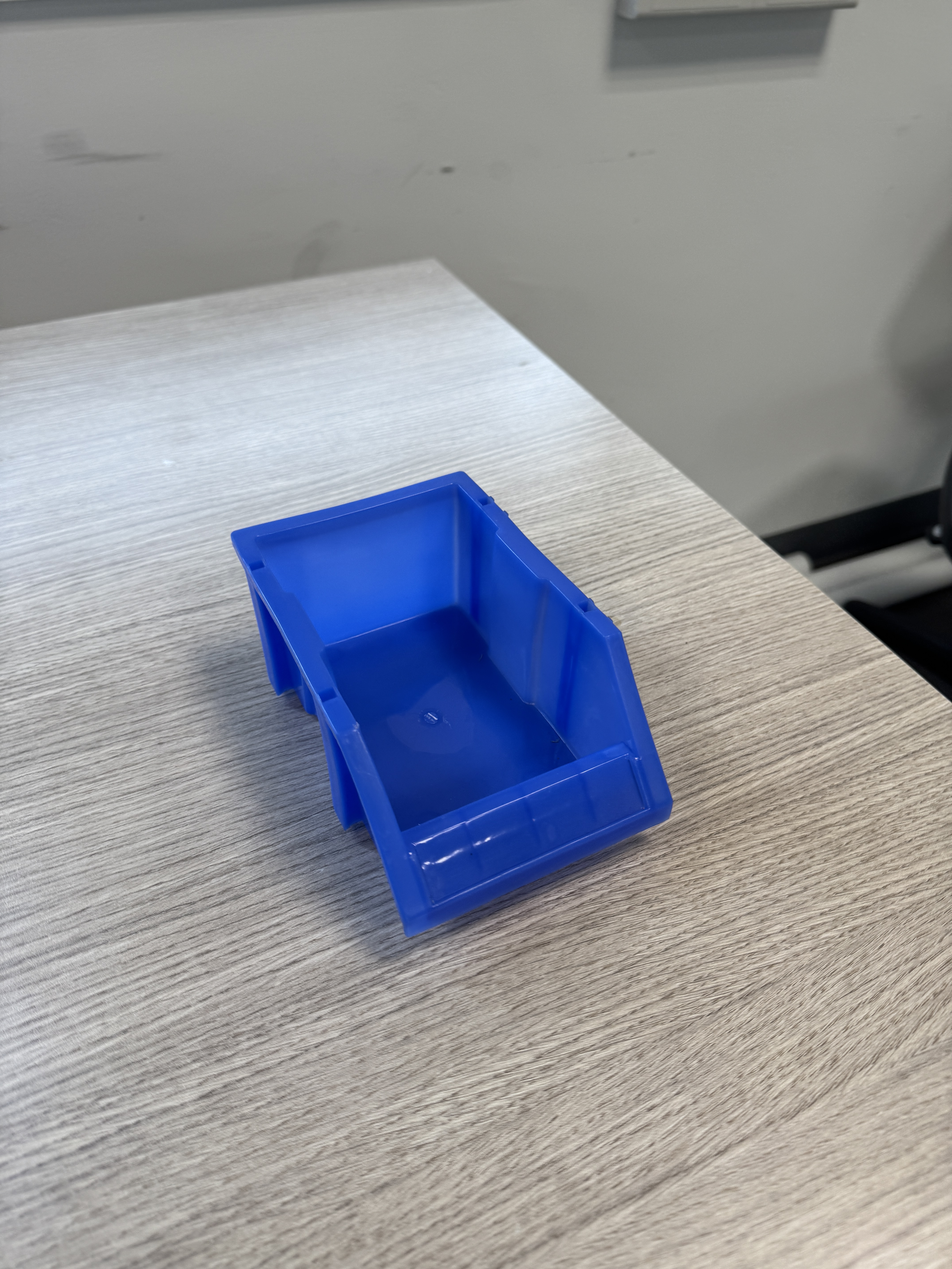Bin Boundary: (256, 420, 651, 850)
